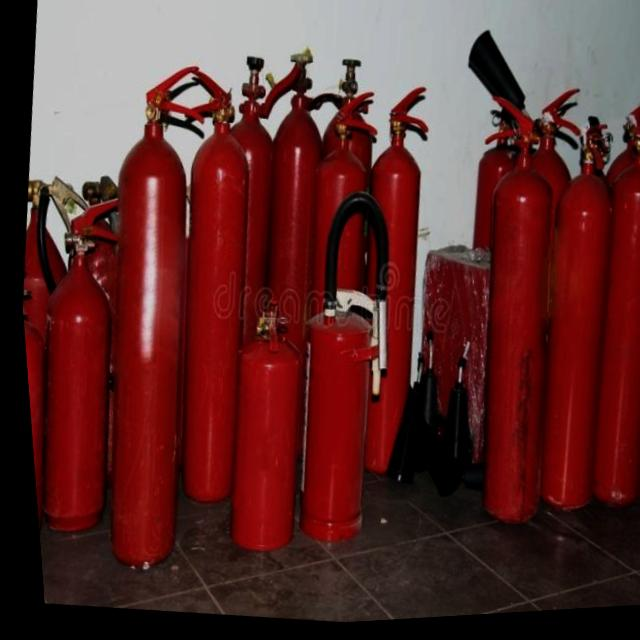FireExtinguisher: (57, 49, 236, 581), (405, 21, 559, 504), (212, 39, 368, 514), (168, 40, 322, 516), (132, 48, 285, 514), (431, 93, 584, 535), (257, 178, 414, 557), (325, 75, 465, 491), (499, 110, 636, 527), (266, 86, 404, 489), (11, 183, 141, 544), (548, 91, 640, 524), (194, 293, 320, 563), (10, 165, 96, 511), (15, 260, 71, 573)
